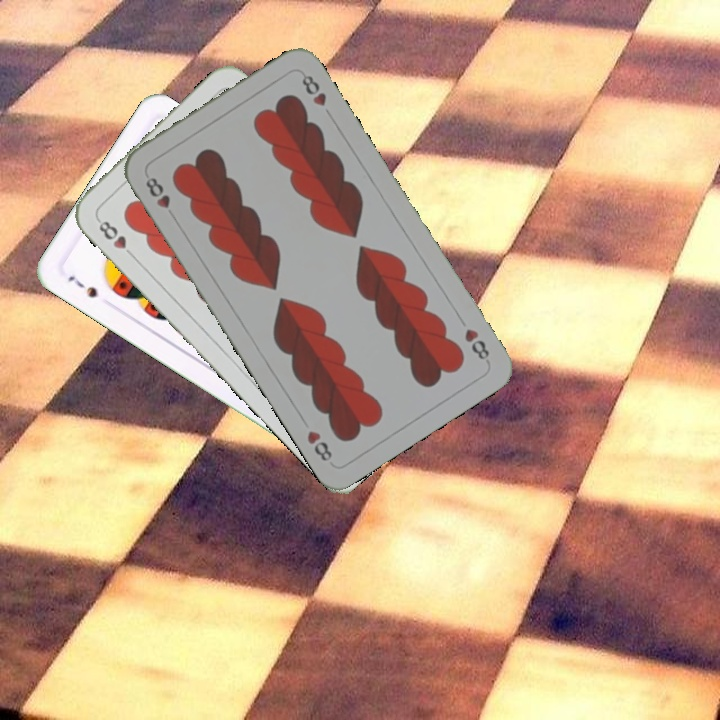H8: (93, 216, 139, 261), (141, 173, 179, 223), (460, 324, 493, 366)
S7: (63, 271, 100, 301)
